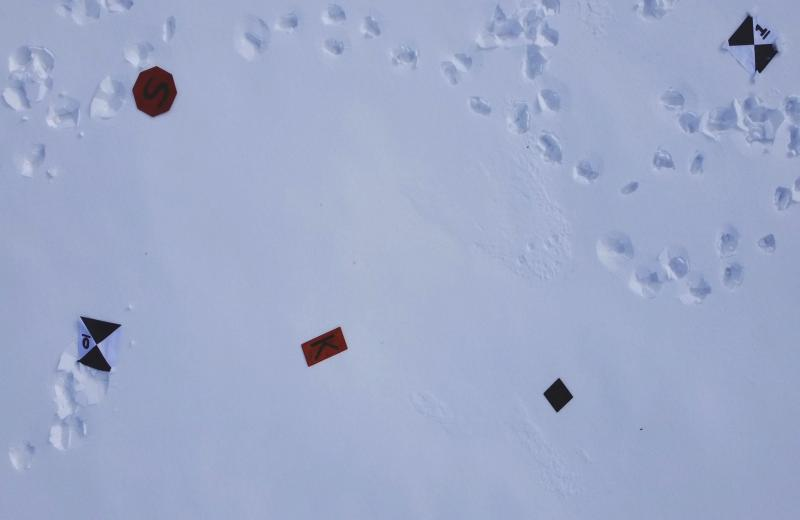Octagon: (132, 65, 180, 120)
Rectangle: (300, 326, 349, 368)
Square: (543, 378, 574, 414)
